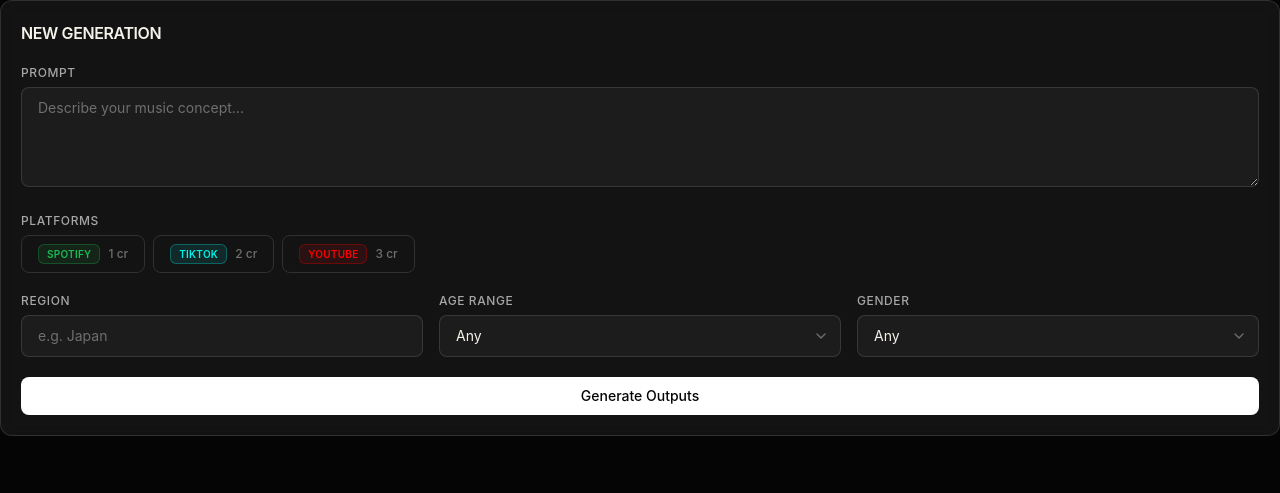
it: GenerationForm › shows insufficient credits inline warning
// Select YouTube (cost 3) with zero credits.
Click the button with test id "platform-youtube". click: (348,254)
box: [282, 235, 415, 273]
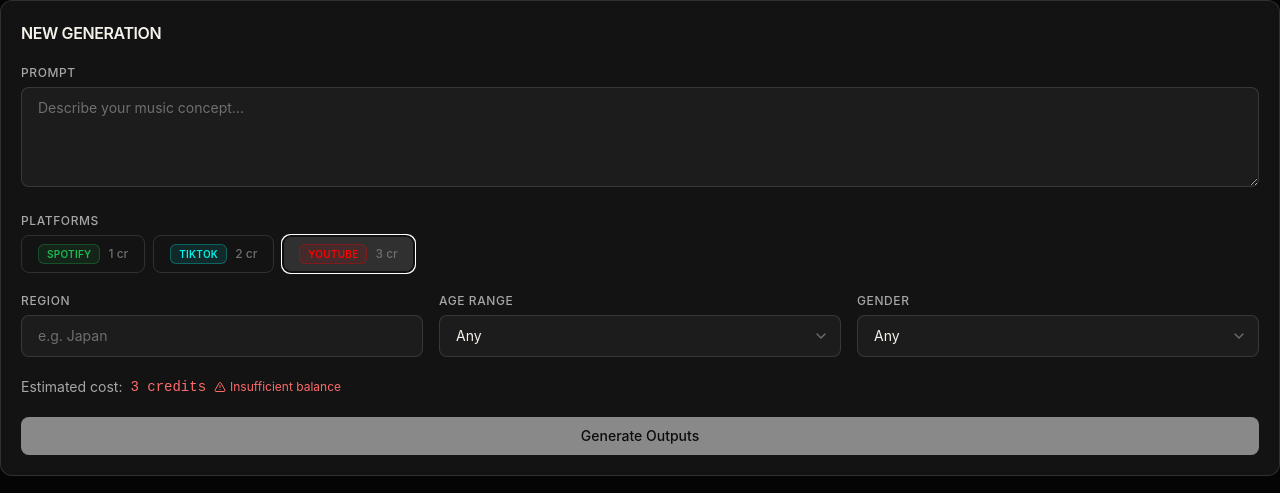
Expected: the text "Insufficient balance" is shown, [214, 379, 341, 395]
